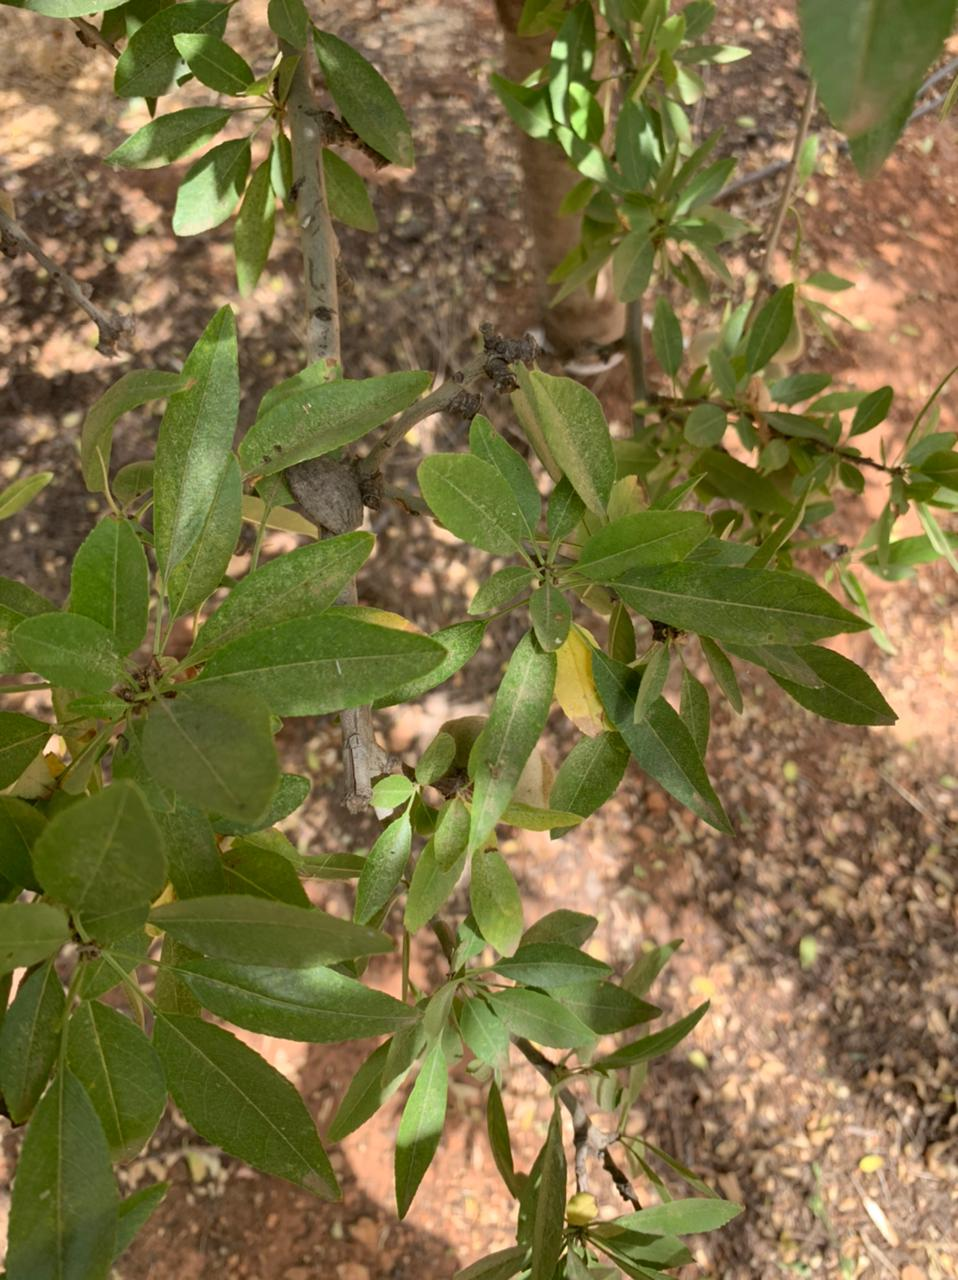acariens: (186, 527, 378, 665), (151, 298, 241, 581), (529, 365, 616, 522), (352, 818, 412, 925)
othyorinques: (574, 510, 714, 576)
